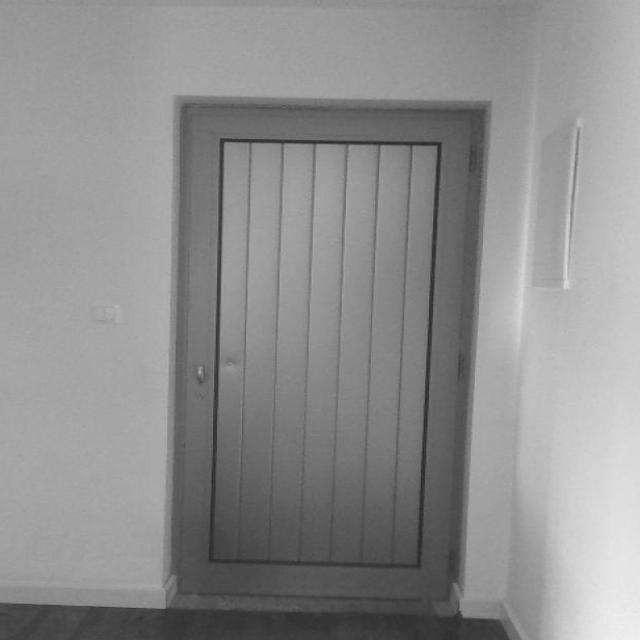Door: (173, 100, 482, 606)
